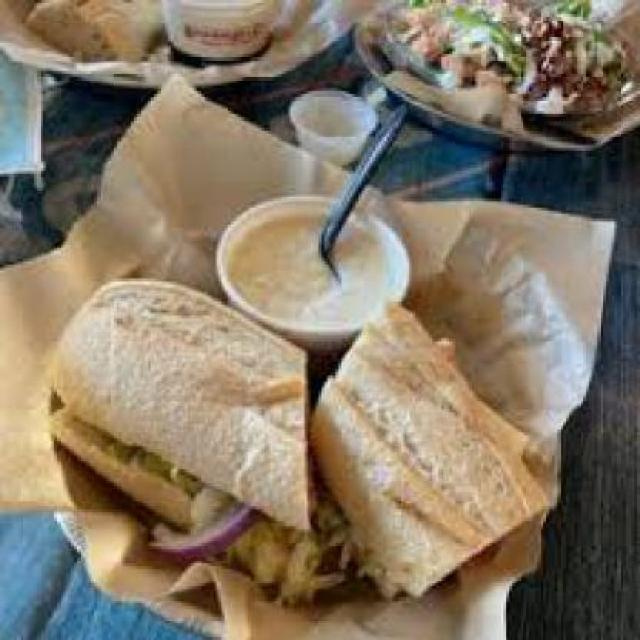clam chowder: (202, 170, 418, 328)
club sandwich: (32, 278, 574, 617)
